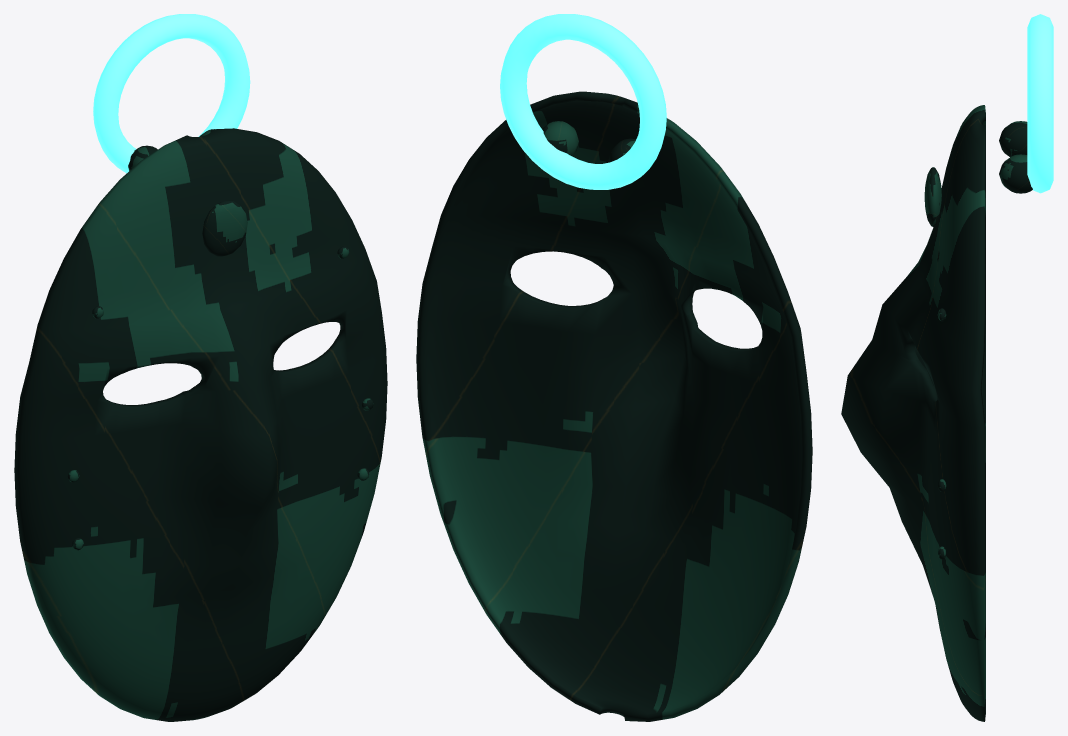
File: mask_pattern_jade.fbx
3 views of the same model, side by side, from view 1: azimuth 30°, elevation 25°; view 2: azimuth 150°, elevation 25°; view 3: azimuth 270°, elevation 25° (orthographic). The views are drawn at different scales.
Visible parts, largest first — view 1: TH_S_Mask_Face, TH_S_Mask_Handle, TH_S_Mask_BrowSeal; view 2: TH_S_Mask_Face, TH_S_Mask_Handle, TH_S_Mask_HandleMount.001; view 3: TH_S_Mask_Face, TH_S_Mask_Handle, TH_S_Mask_HandleMount.001, TH_S_Mask_HandleMount, TH_S_Mask_BrowSeal.
Boxes of the visible parts, left/top/right/bottom form: TH_S_Mask_Face: left=14, top=128, right=387, bottom=721; TH_S_Mask_Handle: left=93, top=14, right=250, bottom=173; TH_S_Mask_BrowSeal: left=202, top=200, right=247, bottom=256; TH_S_Mask_Face: left=416, top=91, right=812, bottom=721; TH_S_Mask_Handle: left=500, top=14, right=666, bottom=189; TH_S_Mask_HandleMount.001: left=542, top=121, right=578, bottom=155; TH_S_Mask_Face: left=841, top=105, right=985, bottom=721; TH_S_Mask_Handle: left=1027, top=14, right=1053, bottom=193; TH_S_Mask_HandleMount.001: left=999, top=154, right=1032, bottom=193; TH_S_Mask_HandleMount: left=999, top=121, right=1027, bottom=156; TH_S_Mask_BrowSeal: left=924, top=167, right=941, bottom=226.
Bounding box in the file's own units: 0.1968 × 0.3452 × 0.097.
2 materials, 1 textured.
